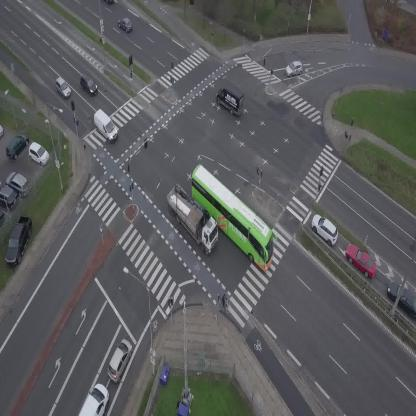bicycle: (217, 292, 231, 314)
bus: (178, 158, 289, 274)
car: (340, 239, 383, 282), (103, 336, 137, 384), (306, 210, 344, 248), (79, 380, 115, 416), (76, 71, 101, 97), (50, 76, 74, 101), (115, 14, 136, 34), (283, 60, 304, 78)
lorry: (157, 180, 229, 257), (211, 80, 250, 119), (87, 108, 123, 143)
